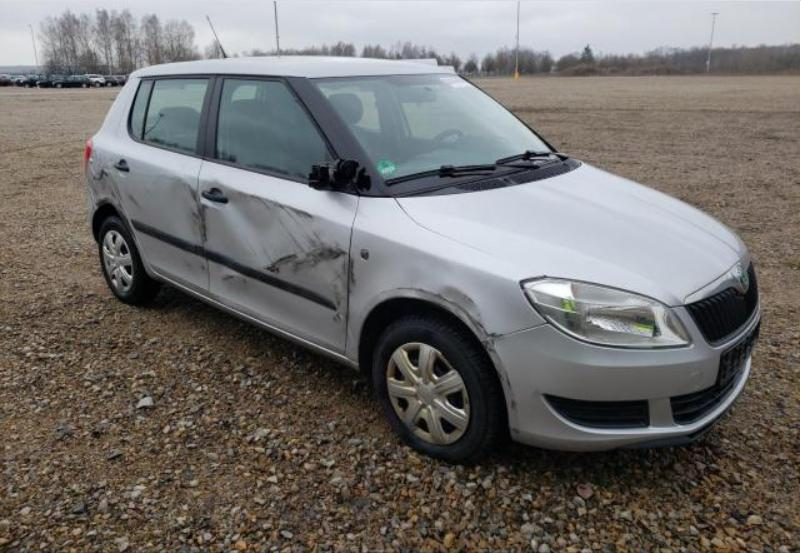Back-door: (114, 75, 216, 303)
Back-wheel: (98, 218, 160, 306)
Back-window: (127, 74, 216, 158)
Fender: (343, 197, 552, 372)
Front-bumper: (481, 306, 759, 452)
Front-door: (198, 75, 359, 358)
Front-wheel: (372, 308, 504, 461)
Front-window: (203, 75, 332, 184)
Grille: (690, 268, 759, 340)
Headlight: (523, 276, 689, 348)
Hood: (397, 159, 752, 312)
License-plate: (718, 327, 759, 392)
Mirror: (317, 151, 354, 190)
Quarter-panel: (88, 131, 130, 230)
Roof: (128, 56, 457, 80)
Tail-light: (84, 133, 96, 178)
Windshield: (314, 73, 565, 196)
